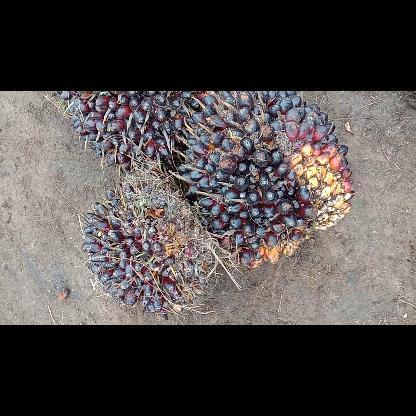TBS mentah: (173, 91, 358, 271), (78, 172, 224, 316), (54, 91, 252, 183)
